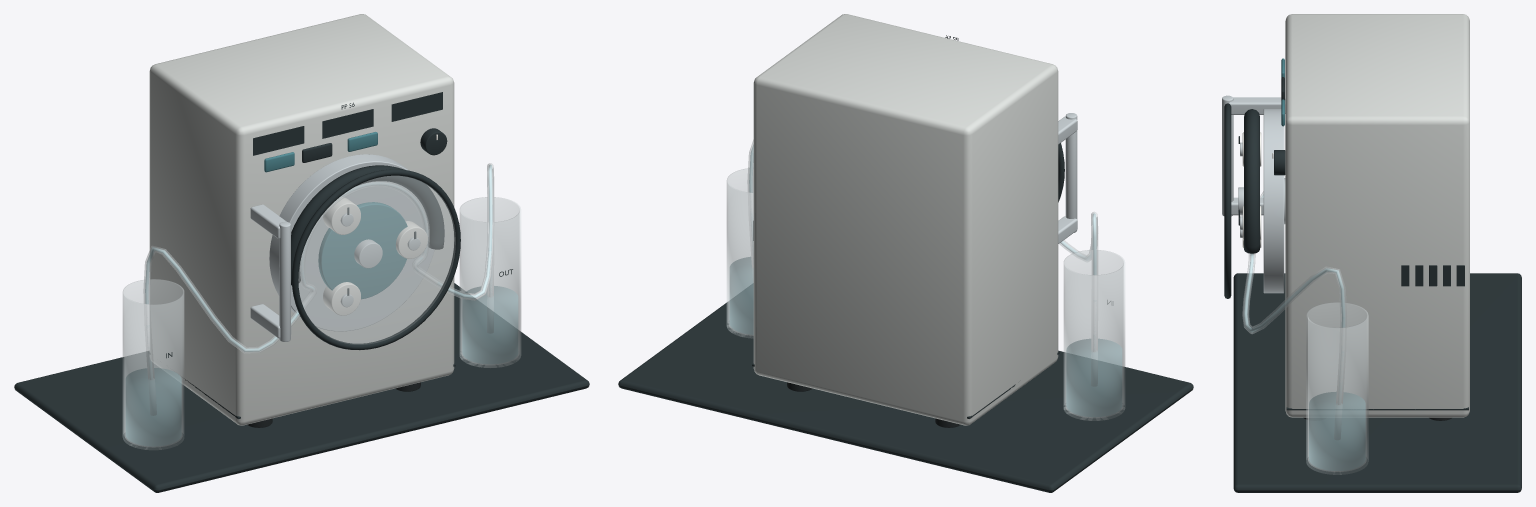
File: preview.glb
The picture shows the model from 3 angles, left to right: view 1: azimuth 30°, elevation 25°; view 2: azimuth 150°, elevation 25°; view 3: azimuth 270°, elevation 25°; orthographic projection.
Visible parts, largest first — view 1: Enamel enclosure, Kit support plate, Clear head cover, Drive bushing, Sample vessel, Sample vessel.001, Continuous hollow silicone tube, Rotor carrier, Reservoir liquid, Reservoir liquid.001, Torus, Cover hinge (+8 smaller); view 2: Enamel enclosure, Kit support plate, Sample vessel, Sample vessel.001, Reservoir liquid, Continuous hollow silicone tube, Reservoir liquid.001, Cover hinge, Drive bushing; view 3: Enamel enclosure, Kit support plate, Sample vessel.001, Drive bushing, Reservoir liquid.001, Continuous hollow silicone tube, Torus, Lower seam, Primed liquid column, Cover hinge.
Boxes of the visible parts, x1,y1,x2,y2 form: Enamel enclosure: [149, 14, 454, 425]; Kit support plate: [14, 165, 589, 492]; Clear head cover: [298, 175, 455, 344]; Drive bushing: [250, 154, 434, 338]; Sample vessel: [122, 279, 184, 449]; Sample vessel.001: [459, 197, 521, 367]; Continuous hollow silicone tube: [143, 163, 494, 379]; Rotor carrier: [318, 202, 407, 299]; Reservoir liquid: [126, 368, 181, 446]; Reservoir liquid.001: [462, 286, 517, 363]; Torus: [291, 169, 460, 350]; Cover hinge: [279, 221, 290, 341]; Enamel enclosure: [753, 14, 1058, 425]; Kit support plate: [618, 284, 1193, 492]; Sample vessel: [1063, 250, 1125, 420]; Sample vessel.001: [726, 168, 753, 338]; Reservoir liquid: [1066, 339, 1121, 416]; Continuous hollow silicone tube: [747, 140, 1098, 351]; Reservoir liquid.001: [730, 257, 753, 334]; Cover hinge: [1065, 113, 1077, 232]; Drive bushing: [1058, 116, 1077, 243]; Enamel enclosure: [1285, 14, 1469, 417]; Kit support plate: [1233, 109, 1521, 492]; Sample vessel.001: [1306, 302, 1368, 474]; Drive bushing: [1228, 97, 1285, 293]; Reservoir liquid.001: [1309, 392, 1365, 470]; Continuous hollow silicone tube: [1242, 191, 1346, 404]; Torus: [1224, 103, 1231, 298]; Lower seam: [1286, 265, 1468, 410]; Primed liquid column: [1244, 195, 1344, 331]; Cover hinge: [1222, 95, 1233, 216].
Size of the model in its own units: 0.44 by 0.3083 by 0.26.
